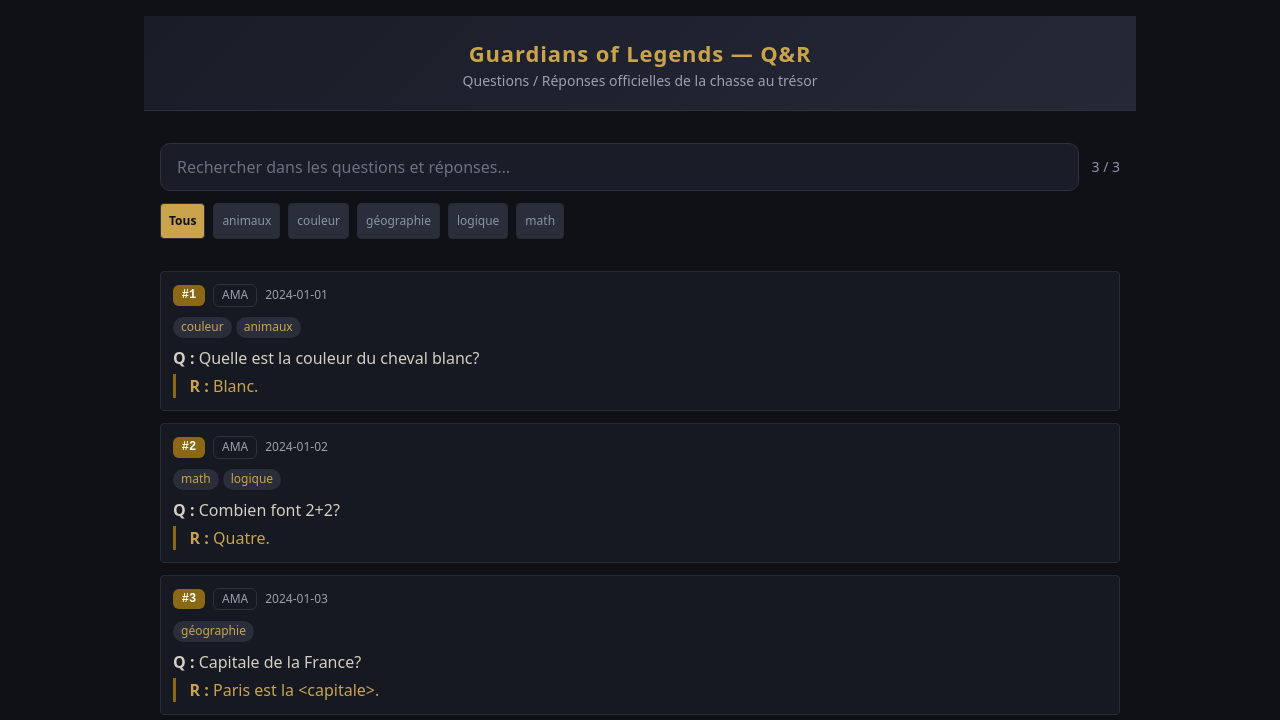
Test: QrSection › toggles a theme tag and filters accordingly
Expected: the text "Q : Capitale de la France?" is shown, 173,651 -> 361,673
Click the button "math" at (540, 221), box 516,203 -> 564,239
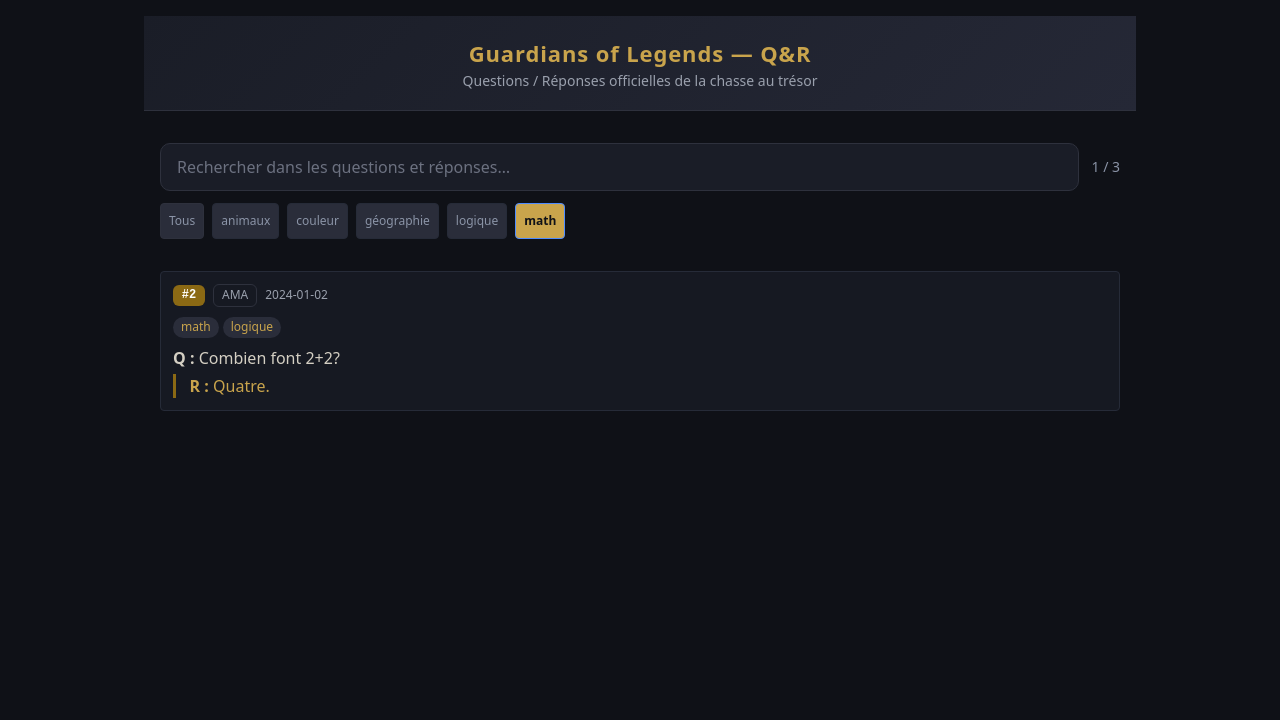
Expected: the text "1 / 3" is shown, 1092,157 -> 1120,177
